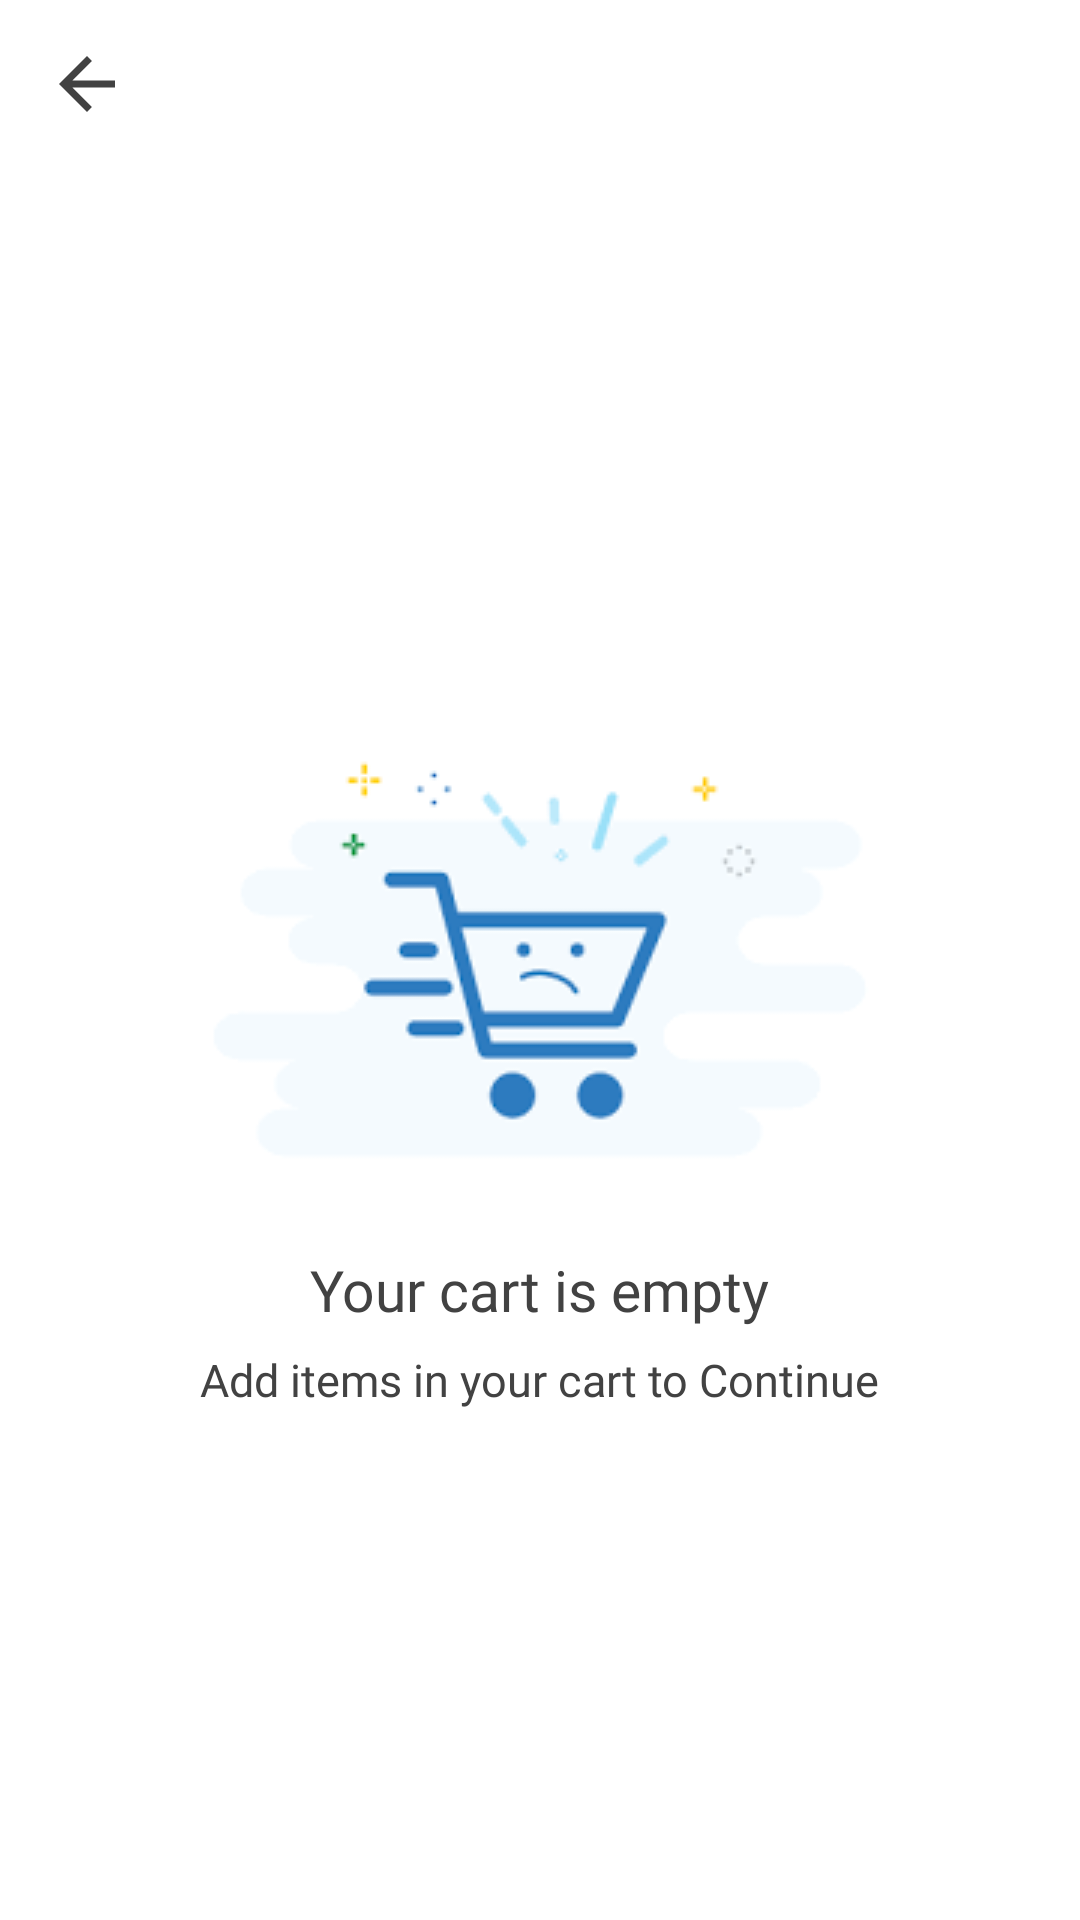

Locate icon controls on the screen. Image size 1080px x 1920px, boxes as bbox(x1, y1, x2, y2).
back arrow: bbox(59, 56, 115, 112)
